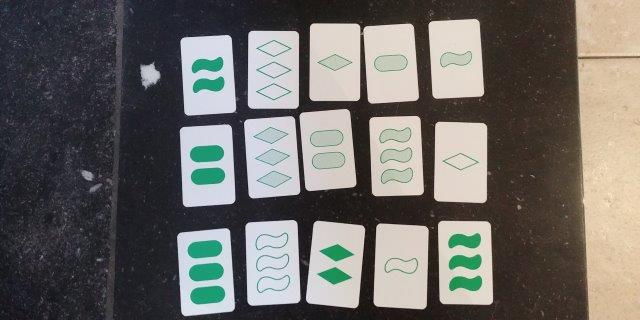1ED: (437, 126, 484, 200)
1EW: (380, 228, 424, 305)
1HD: (312, 26, 357, 99)
1HP: (369, 27, 413, 100)
1HW: (432, 23, 477, 96)
2FD: (314, 229, 356, 301)
2FP: (184, 129, 231, 204)
2FW: (187, 39, 232, 110)
2HP: (304, 114, 349, 185)
3ED: (250, 34, 296, 108)
3EW: (247, 224, 296, 302)
3FP: (182, 236, 228, 309)
3FW: (441, 225, 489, 301)
3HD: (249, 122, 294, 192)
3HW: (375, 121, 420, 191)
